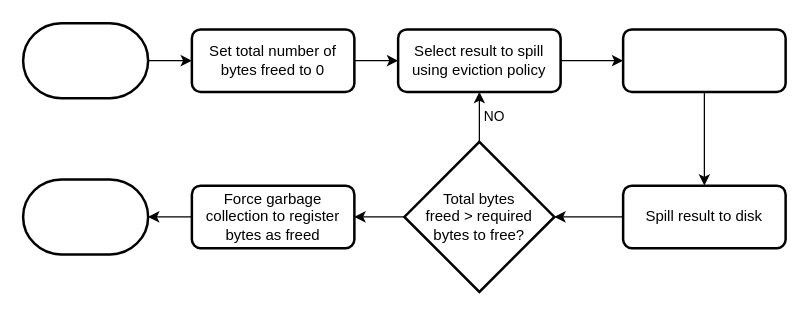
Image size: 808x314. Some labels were removed from this diagram. Each missing label, with the centre of its shape:
"Add estimated number of bytes freed by result to total" belongs at pixel 703 60.
"START" belongs at pixel 85 60.
"STOP" belongs at pixel 85 216.
